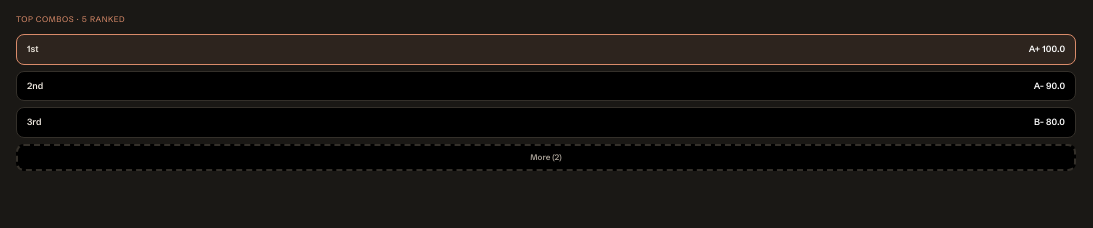
Test case: ComboList compact mobile mode (#70) › collapses to the top ranks with a "More" expand when compact
Click the button with test id "combo-more".
click(546, 157)  # box x1=16 y1=144 x2=1076 y2=171
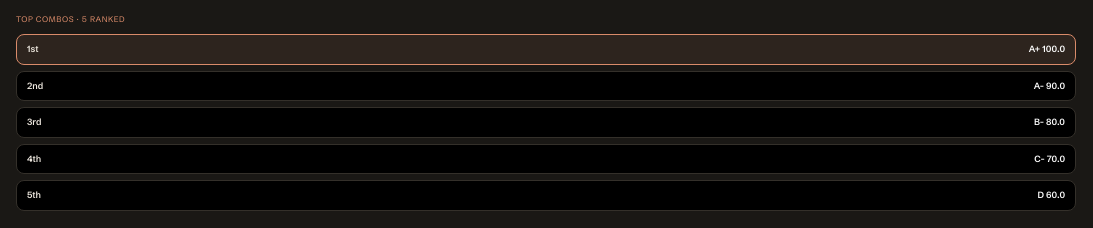
Expected: the button with test id "combo-more" is gone
